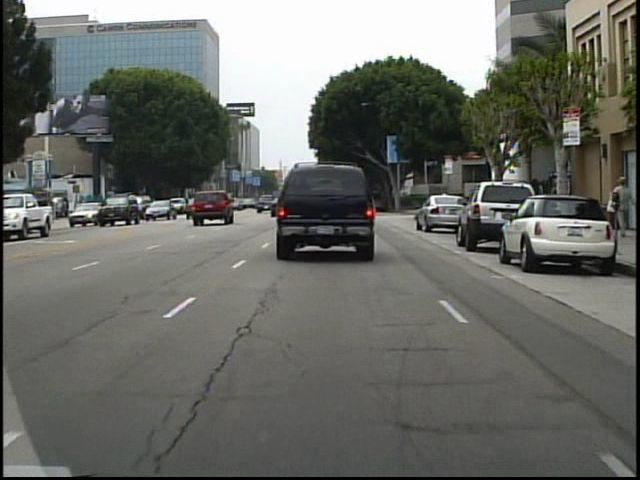person: (606, 172, 629, 237), (482, 176, 502, 221), (436, 186, 453, 224), (27, 199, 43, 226)
